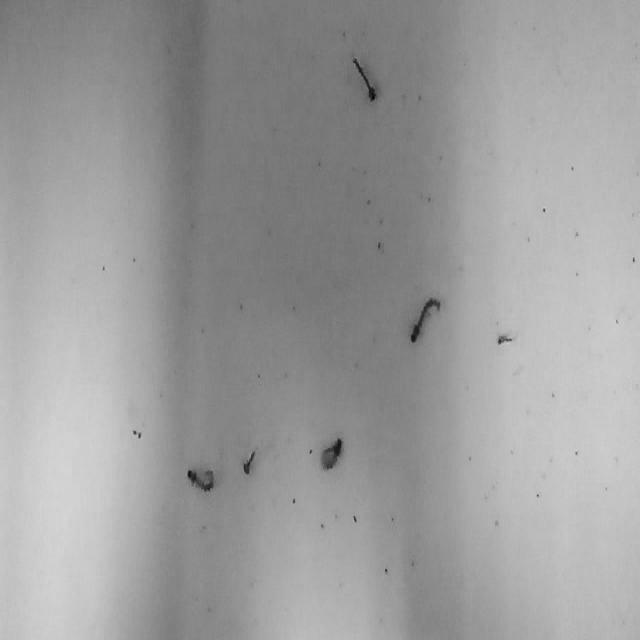larvas: (410, 298, 440, 342), (352, 56, 378, 103), (321, 437, 343, 467), (186, 468, 214, 489), (242, 449, 255, 474), (497, 334, 515, 344)
